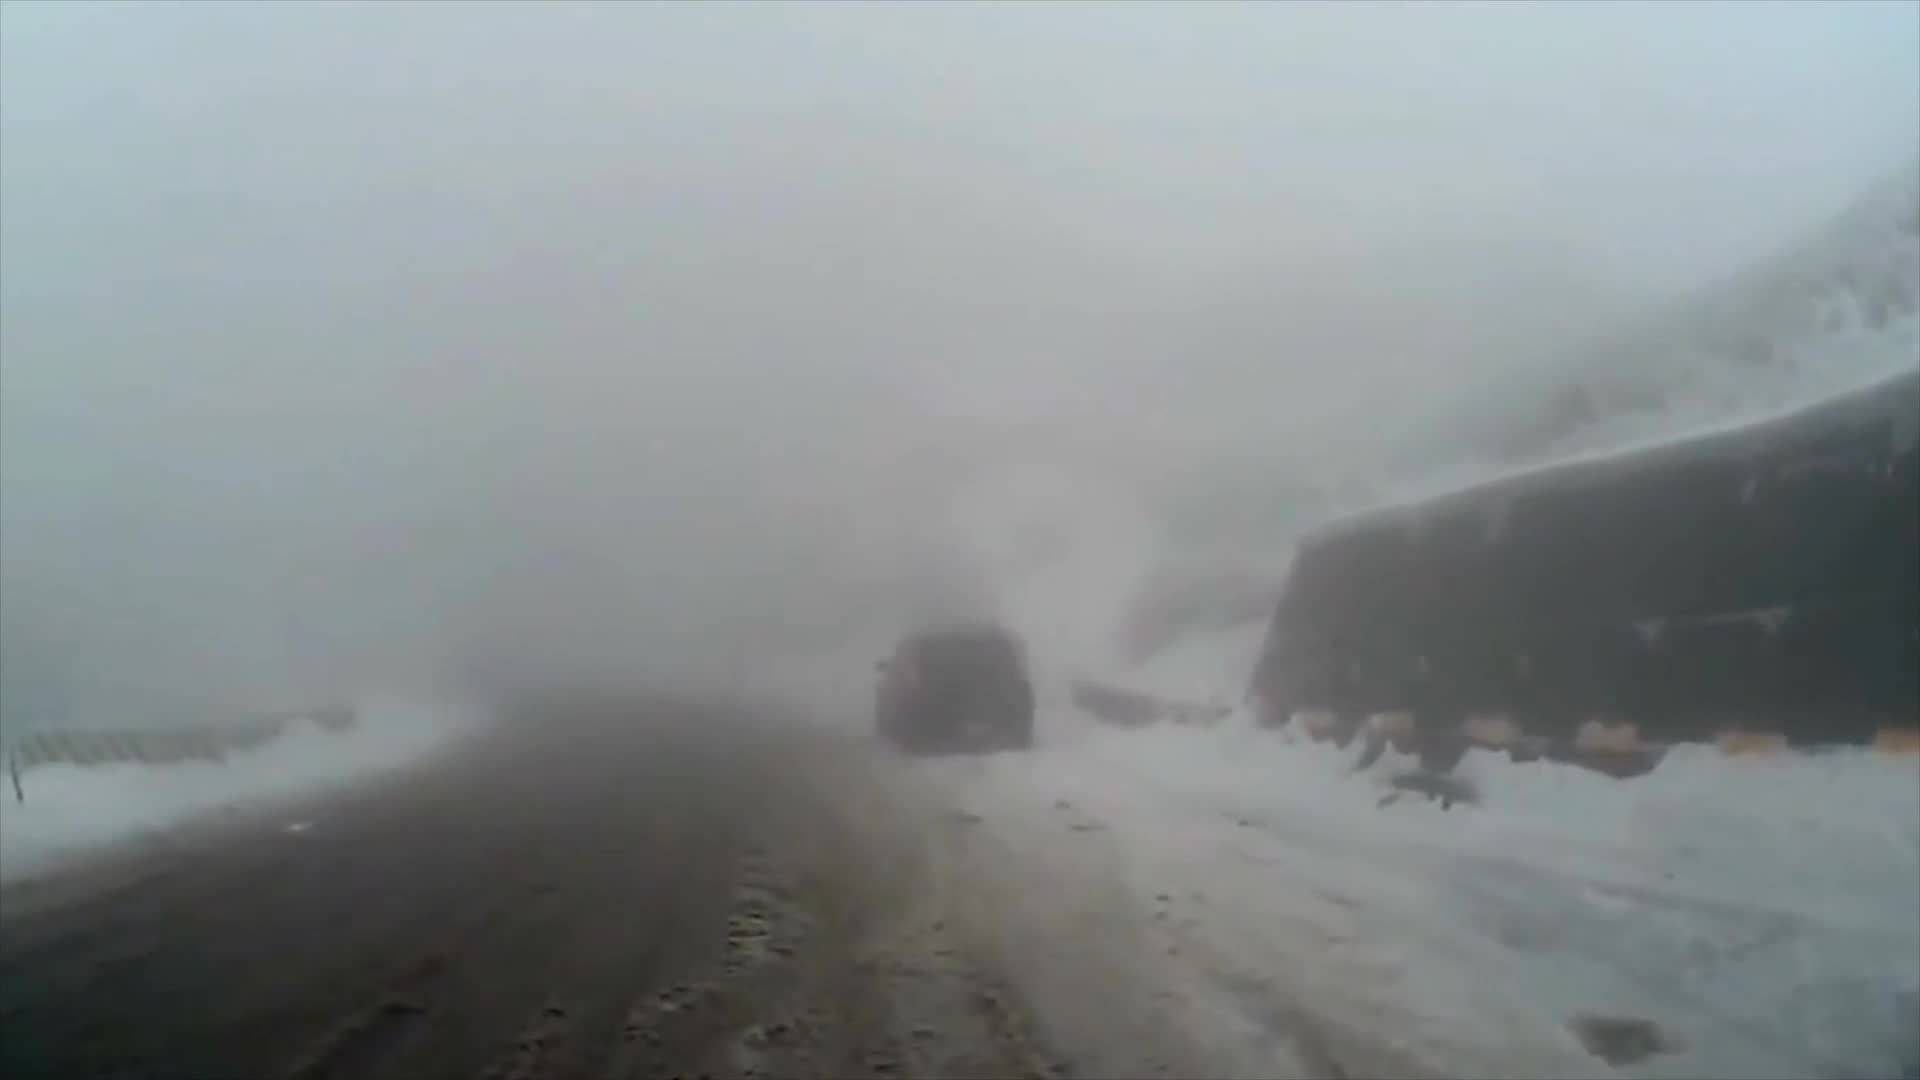vehicle: (869, 613, 1033, 753)
